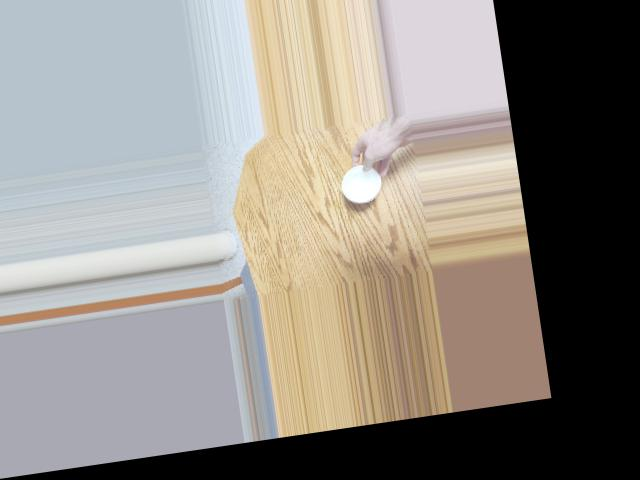cotage: (334, 156, 390, 206)
